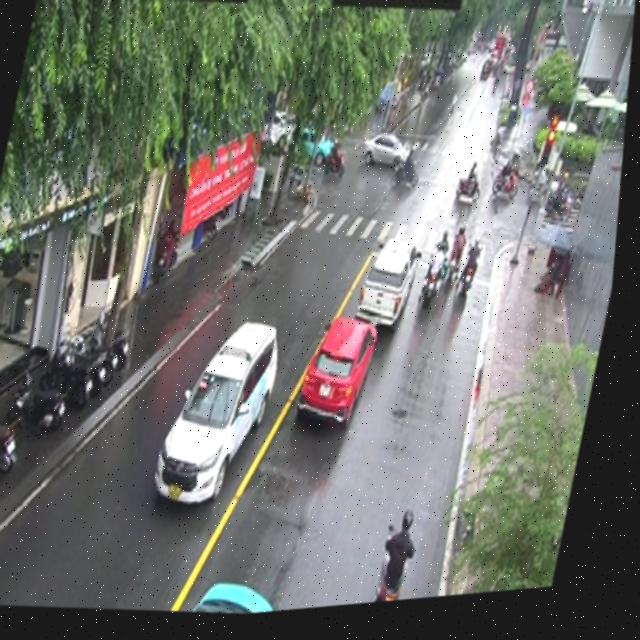Red: (542, 121, 565, 182)
